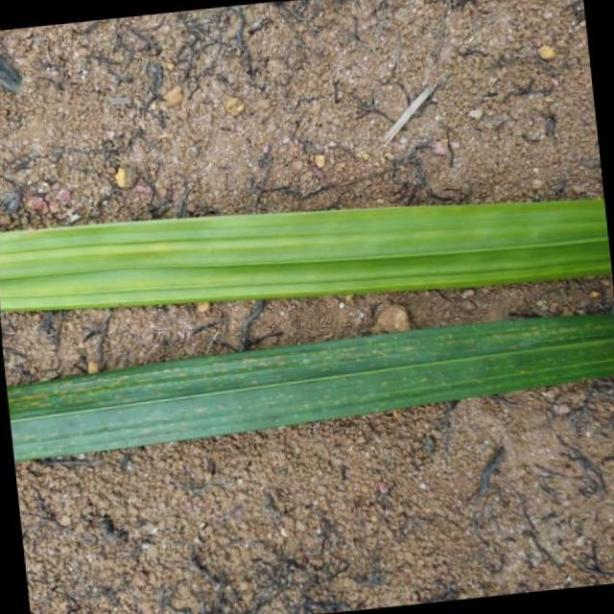nitrogen: (0, 309, 614, 462), (0, 190, 614, 312)
